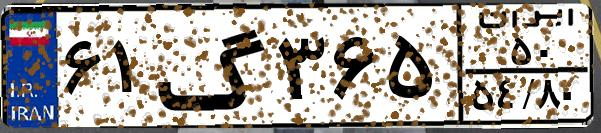0: (560, 70, 590, 125), (537, 27, 568, 80)
1: (110, 28, 156, 98)
3: (270, 28, 330, 110)
4: (495, 70, 520, 125)
5: (385, 28, 445, 110), (508, 27, 537, 80), (470, 70, 495, 125)
6: (330, 28, 385, 110), (57, 26, 110, 100)
8: (535, 70, 560, 125)
گ: (156, 12, 270, 120)
